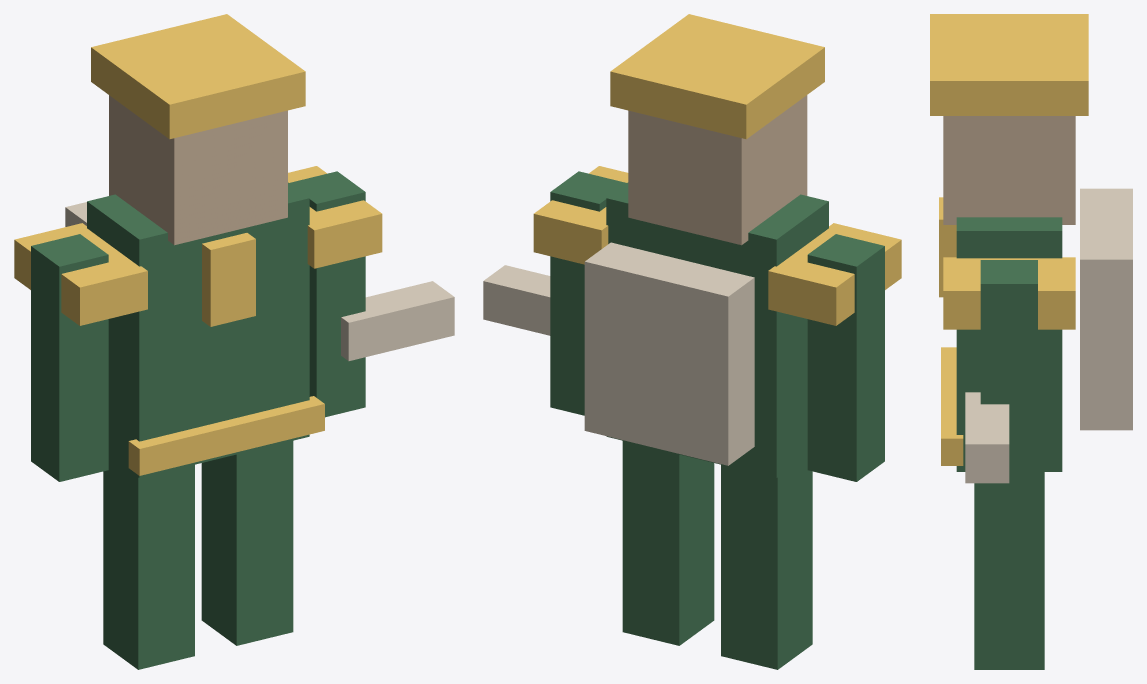
Rendered from 16_asha_dubwater_responder_near_research.glb.
The picture shows the model from 3 angles, left to right: view 1: azimuth 30°, elevation 25°; view 2: azimuth 150°, elevation 25°; view 3: azimuth 270°, elevation 25°; orthographic projection.
Parts seen in each view (by area): view 1: Asha Dubwater, Responder near Research; view 2: Asha Dubwater, Responder near Research; view 3: Asha Dubwater, Responder near Research.
Part boxes in pixels (<box>): Asha Dubwater, Responder near Research: <box>14,14,454,669</box>; Asha Dubwater, Responder near Research: <box>483,14,901,669</box>; Asha Dubwater, Responder near Research: <box>930,14,1132,669</box>.
Size of the model in its own units: 1.06 by 1.51 by 0.4742.
